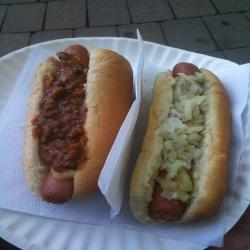hotdog: (12, 35, 138, 209), (129, 57, 236, 227)
